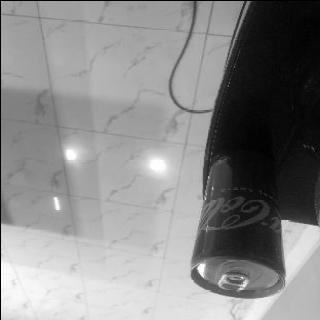alumunium_can: (186, 149, 290, 302)
